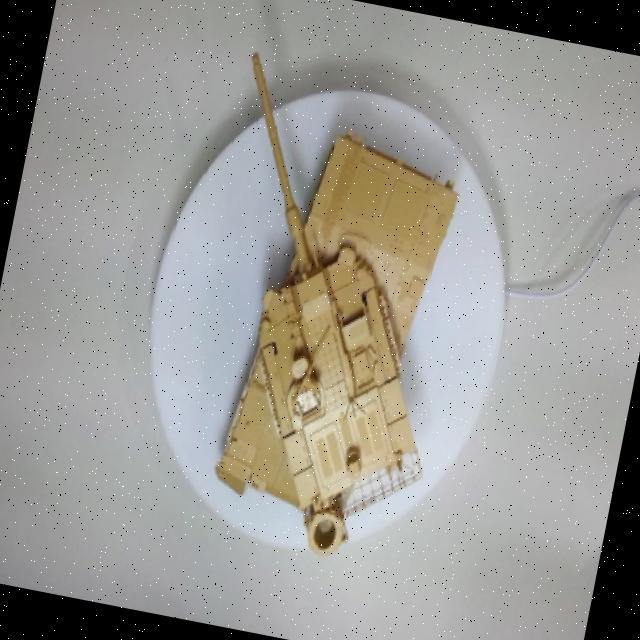korea tank: (110, 4, 549, 596)
